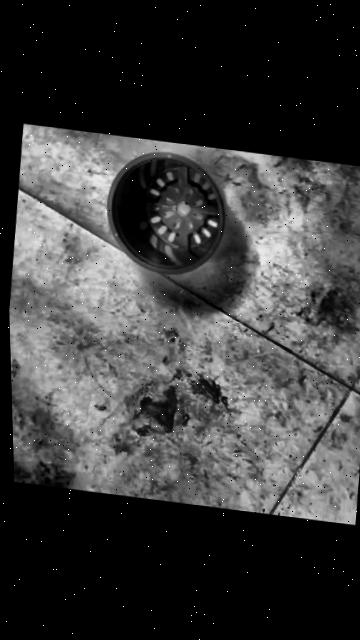pot: (100, 144, 236, 282)
